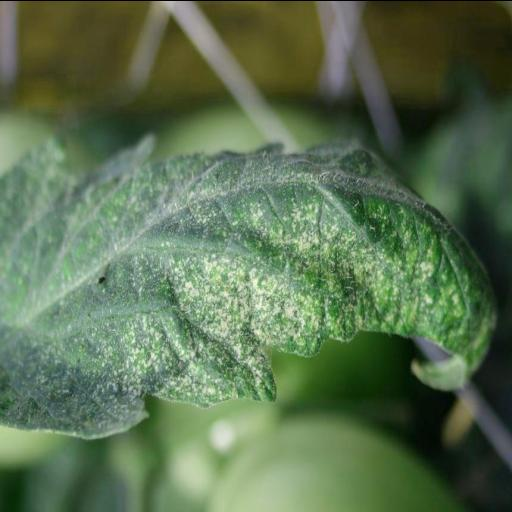Spider Mites: (0, 127, 501, 443)
